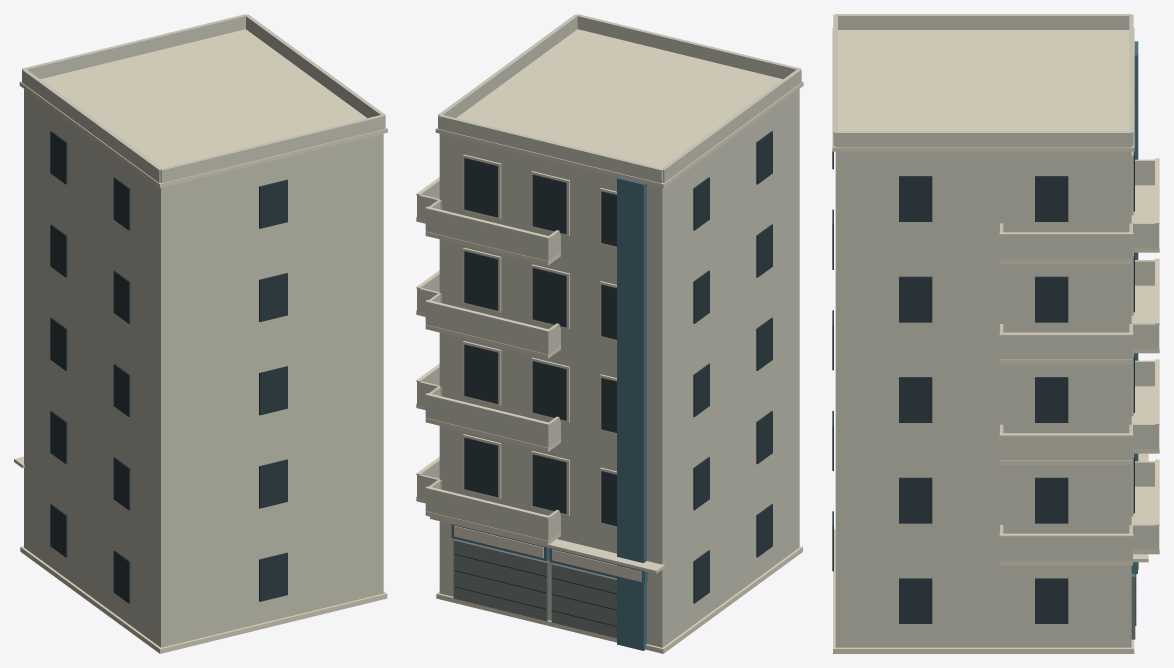
File: KOL_T3_MIX_05.fbx
3 views of the same model, side by side, from view 1: azimuth 30°, elevation 25°; view 2: azimuth 150°, elevation 25°; view 3: azimuth 270°, elevation 25° (orthographic). The views are drawn at different scales.
Visible parts, largest first — view 1: KOL_T3_MIX_05__Body, KOL_T3_MIX_05__Trim, KOL_T3_MIX_05__Dark; view 2: KOL_T3_MIX_05__Body, KOL_T3_MIX_05__Trim, KOL_T3_MIX_05__Dark, KOL_T3_MIX_05__Accent, KOL_T3_MIX_05__Roof; view 3: KOL_T3_MIX_05__Body, KOL_T3_MIX_05__Trim, KOL_T3_MIX_05__Dark, KOL_T3_MIX_05__Accent.
Part boxes in pixels (bbox=[...]): KOL_T3_MIX_05__Body: bbox=[22, 14, 385, 647]; KOL_T3_MIX_05__Trim: bbox=[14, 29, 387, 653]; KOL_T3_MIX_05__Dark: bbox=[50, 131, 287, 603]; KOL_T3_MIX_05__Body: bbox=[417, 14, 801, 647]; KOL_T3_MIX_05__Trim: bbox=[416, 29, 803, 653]; KOL_T3_MIX_05__Dark: bbox=[454, 131, 772, 626]; KOL_T3_MIX_05__Accent: bbox=[451, 177, 647, 650]; KOL_T3_MIX_05__Roof: bbox=[453, 539, 616, 638]; KOL_T3_MIX_05__Body: bbox=[833, 14, 1158, 647]; KOL_T3_MIX_05__Trim: bbox=[832, 27, 1159, 653]; KOL_T3_MIX_05__Dark: bbox=[832, 75, 1136, 625]; KOL_T3_MIX_05__Accent: bbox=[1131, 41, 1138, 573].
Size of the model in its own units: 33.42 by 62.15 by 35.42.
